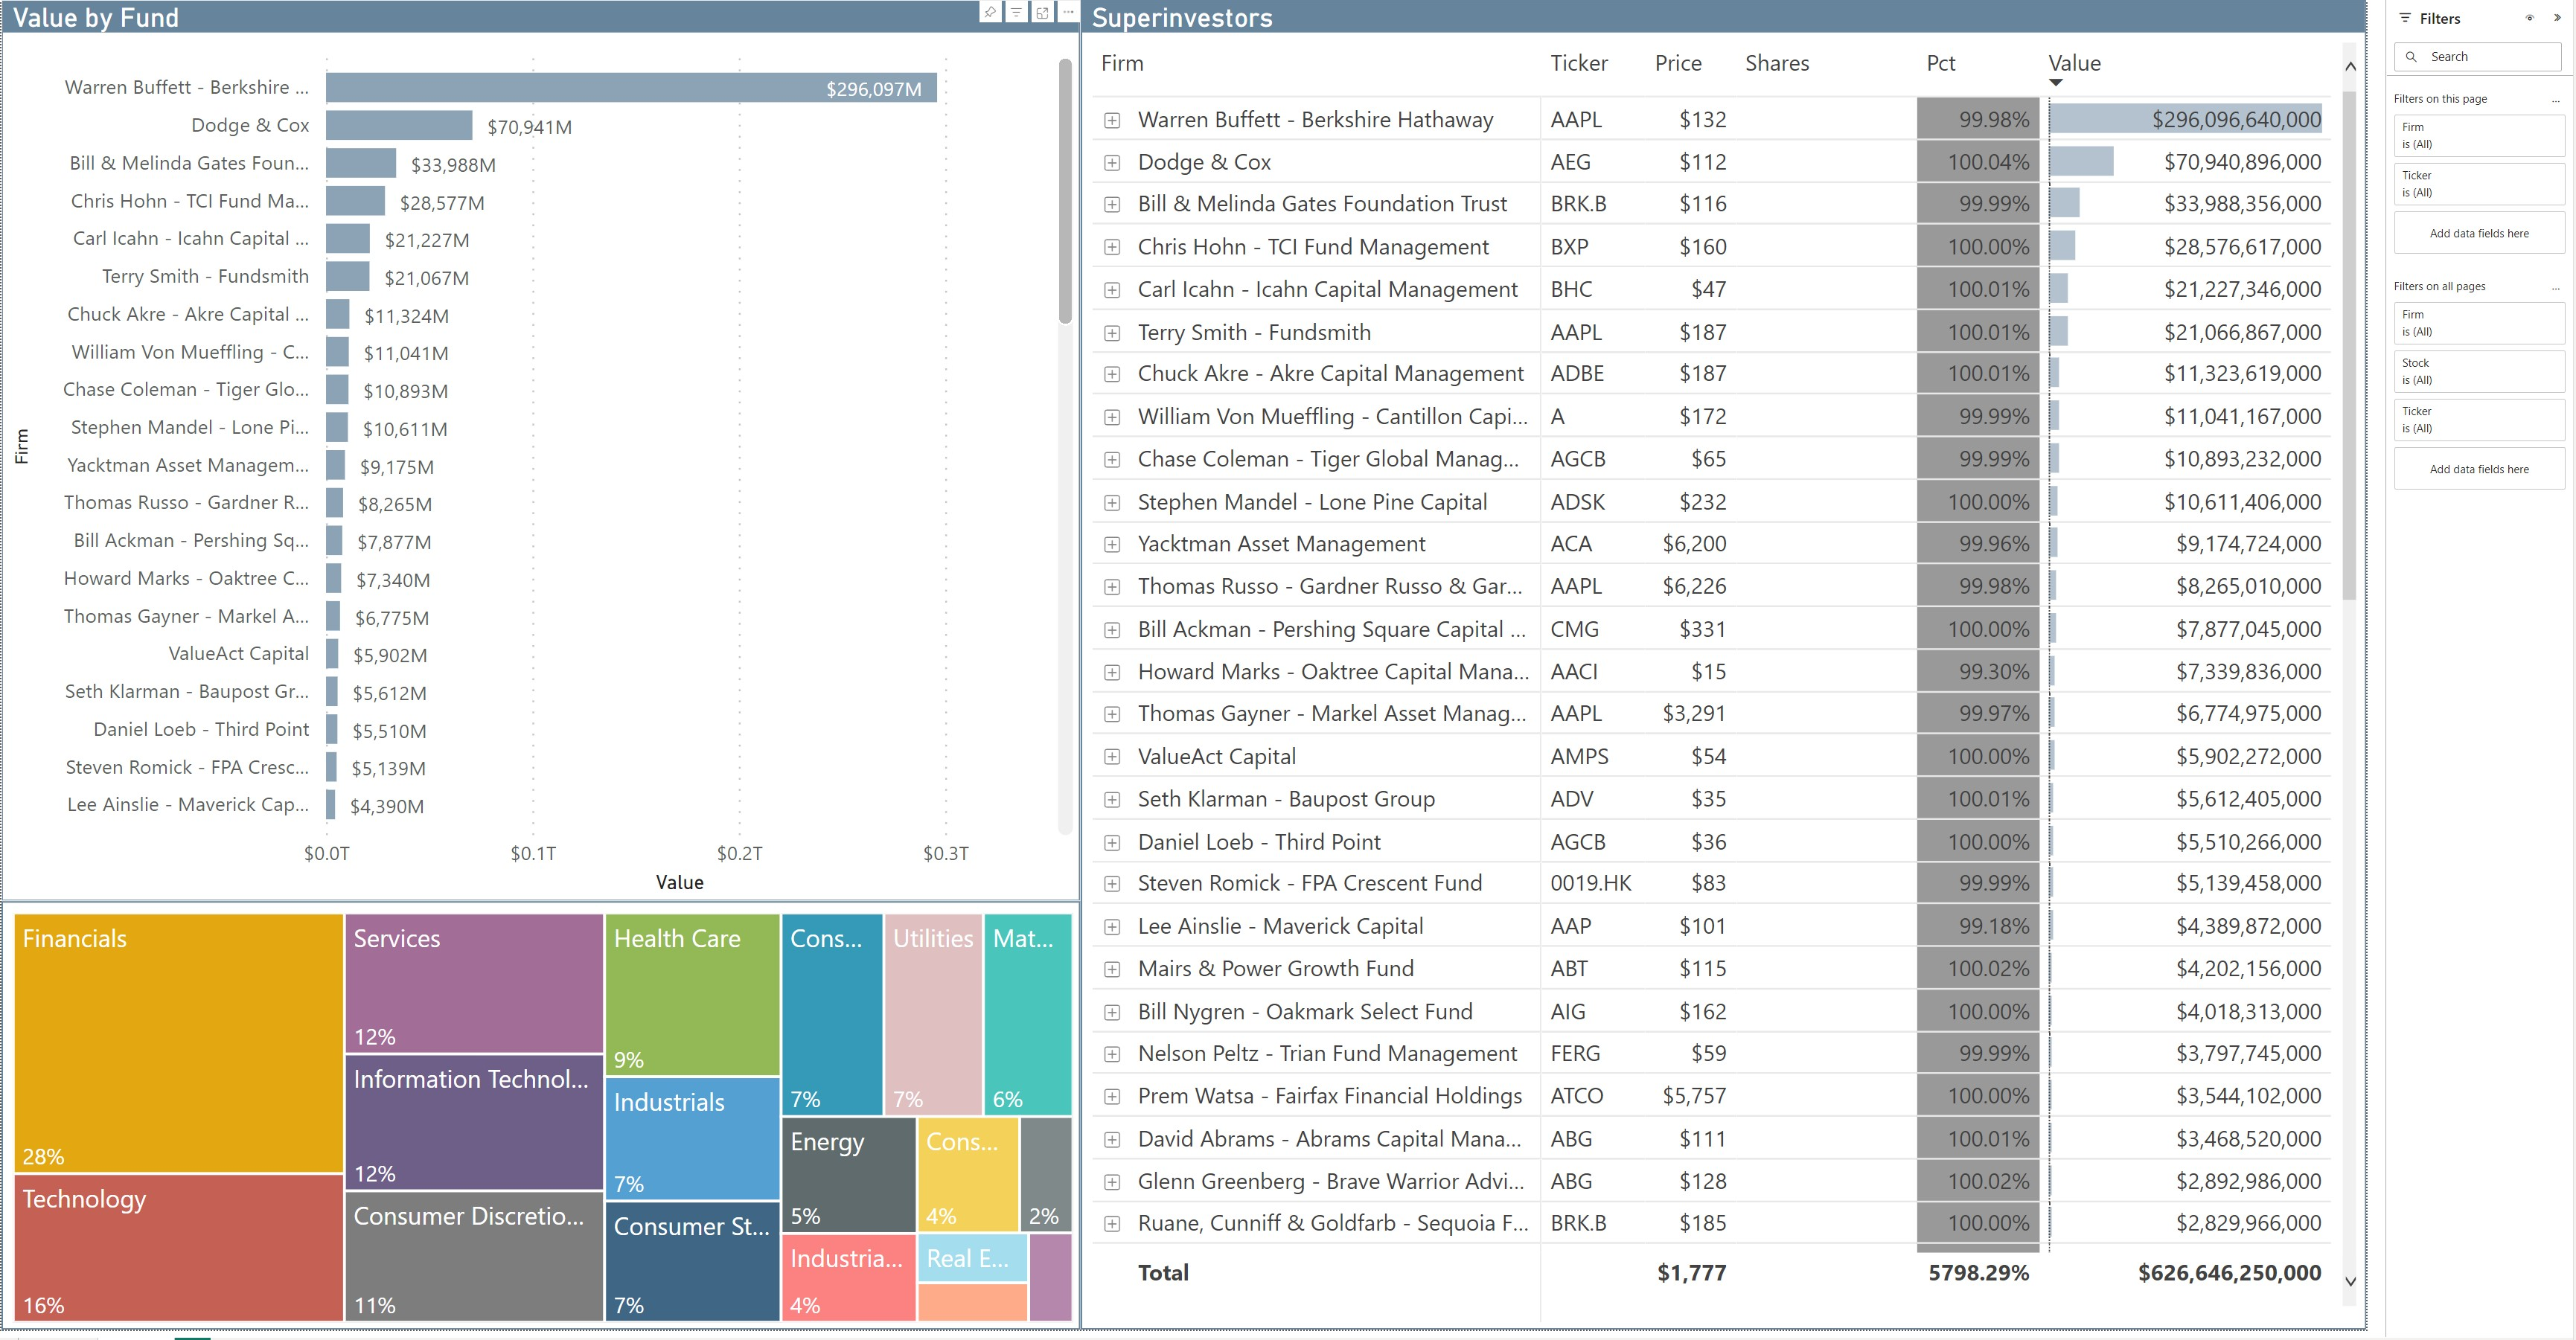

Layout of this report page (visuals, bound fields, positions):
{"tool":"powerbi","page":{"name":"By Firm","canvas":[1280,720],"ordinal":1},"visuals":[{"type":"pivotTable","title":"Superinvestors","fields":{"Rows":["Data - Holdings.Firm","Data - Holdings.Stock"],"Values":["Data - Holdings.Ticker","Data - Holdings.Reported Price","Data - Holdings.Shares","Data - Holdings.Pct","Data - Holdings.Value"]},"box":[584,0,696,720],"z":0},{"type":"clusteredBarChart","title":"Value by Fund","fields":{"Y":["Data - Holdings.Value"],"Category":["Data - Holdings.Firm"]},"box":[0,0,584,488],"z":1000},{"type":"treemap","fields":{"Group":["Data - Sectors.Sector"],"Values":["Data - Sectors.Sector Percent"]},"box":[0,488,584,232],"z":2000}]}

Visuals, with their boxes on the page's 1280x720 design canvas (x1, y1, x2, y2). These are canvas units, not pixel positions in the 2576x1340 screenshot, which may show the page scaled, cropped or inside an application window:
"Superinvestors" pivotTable: x1=584, y1=0, x2=1280, y2=720
"Value by Fund" clusteredBarChart: x1=0, y1=0, x2=584, y2=488
treemap - Data - Sectors.Sector x Data - Sectors.Sector Percent: x1=0, y1=488, x2=584, y2=720
